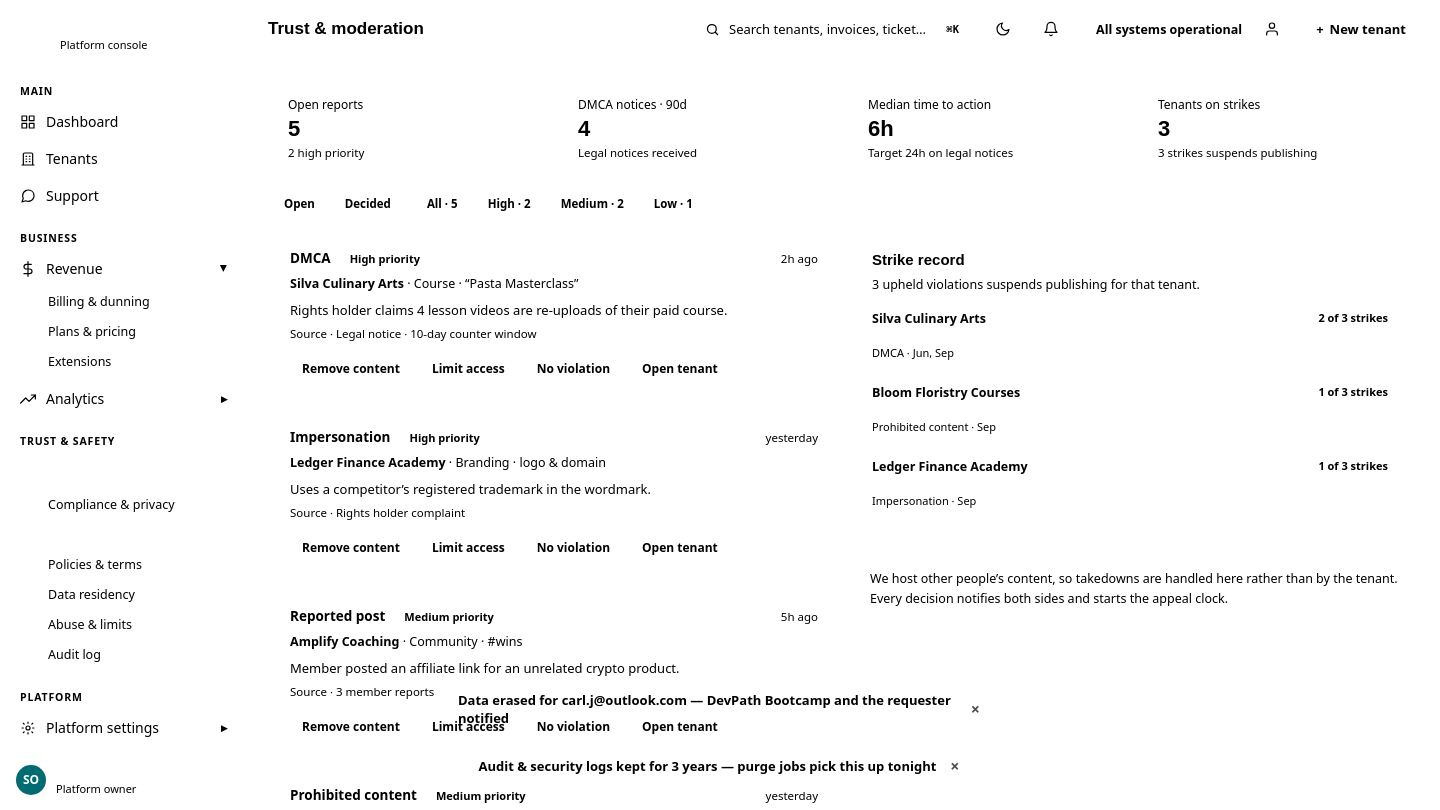
Test: trust & moderation › removes content after confirming; the third strike suspends publishing
This screenshot has width=1440, height=810.
Click the button "Remove content" below "Course · “Pasta Masterclass”".
click(351, 369)  # box [290, 353, 412, 384]
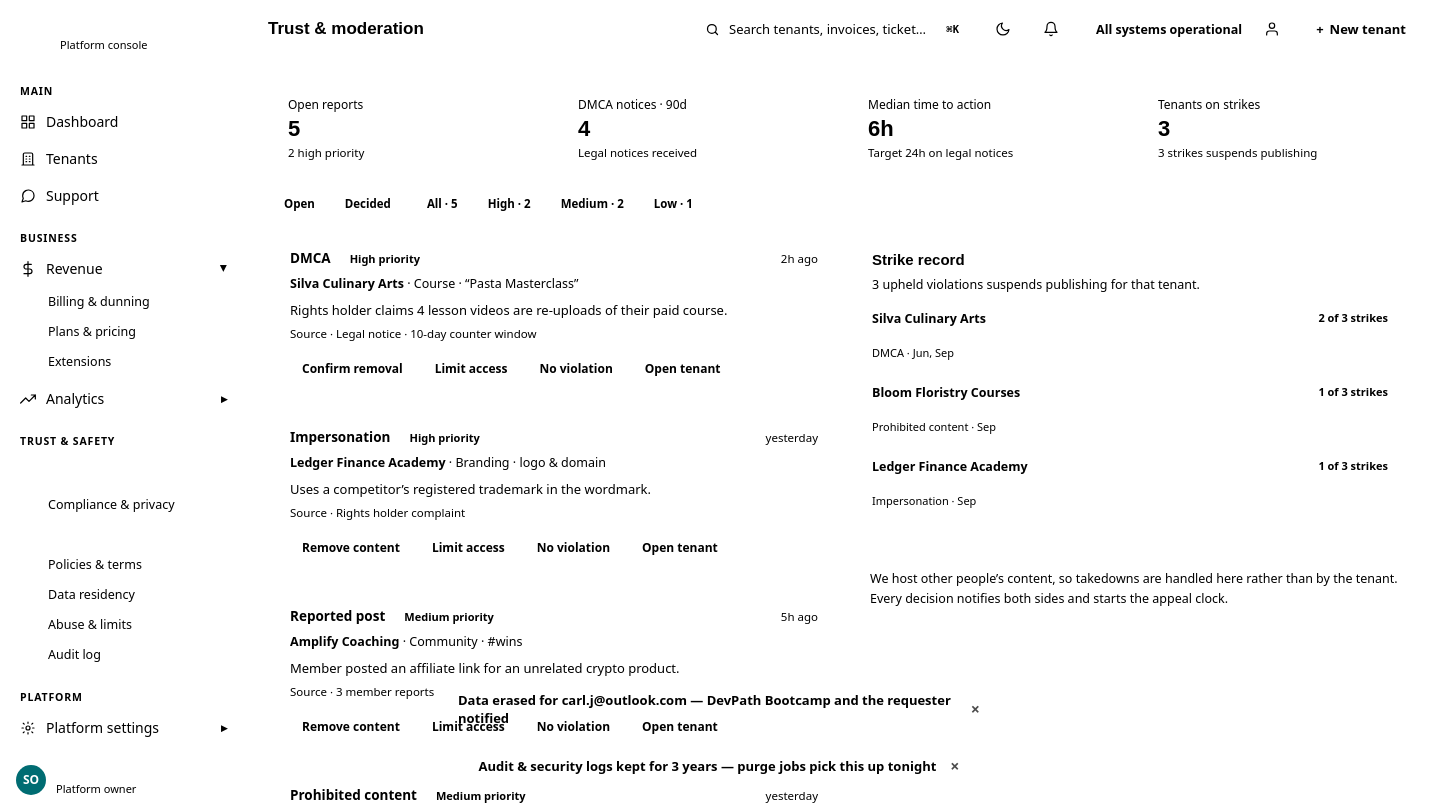
Click the button "Confirm removal".
click(352, 369)  # box [290, 353, 415, 384]
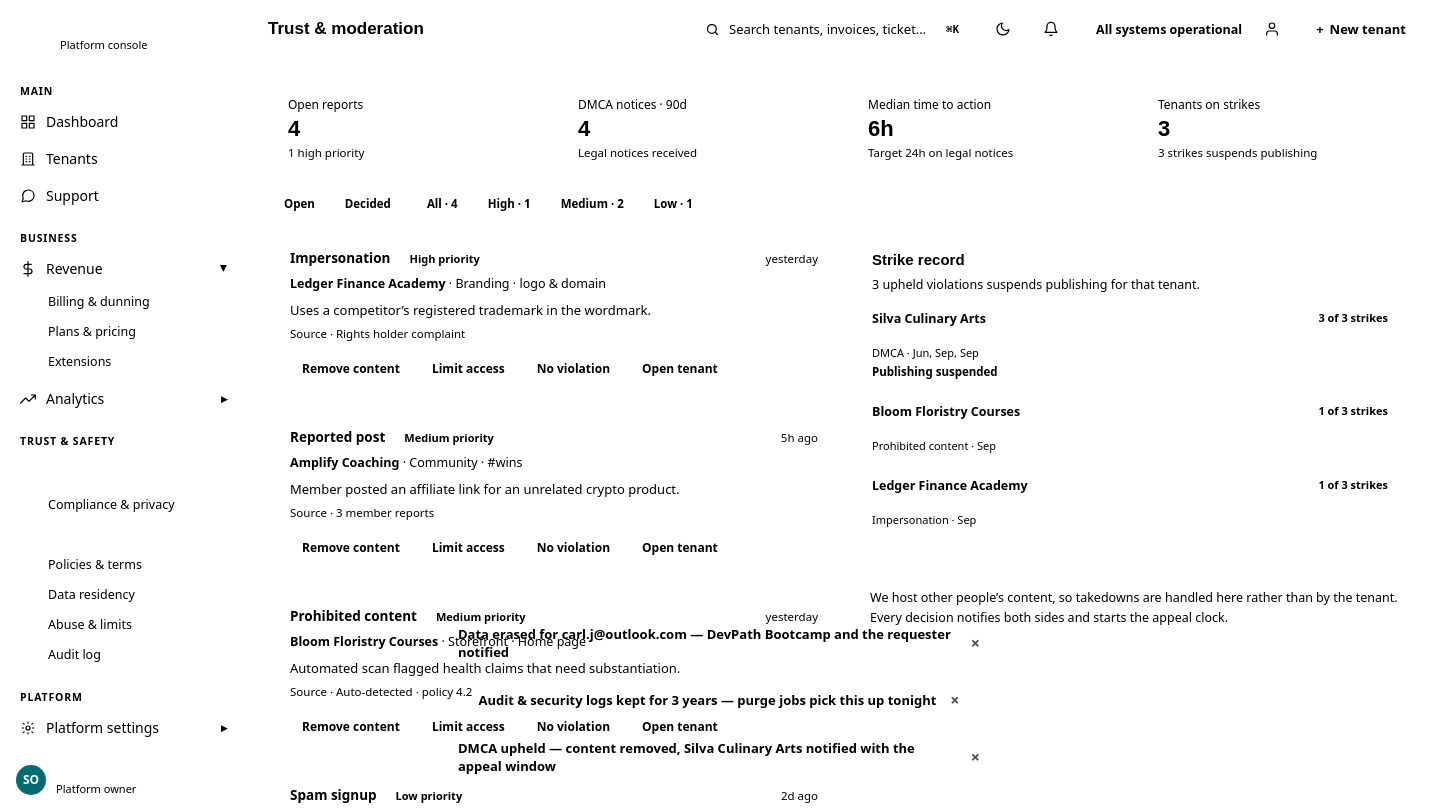
Check: the text "3 of 3 strikes" is shown, box [1318, 310, 1388, 325]
Check: the text "Publishing suspended" is shown, box [872, 364, 998, 379]
